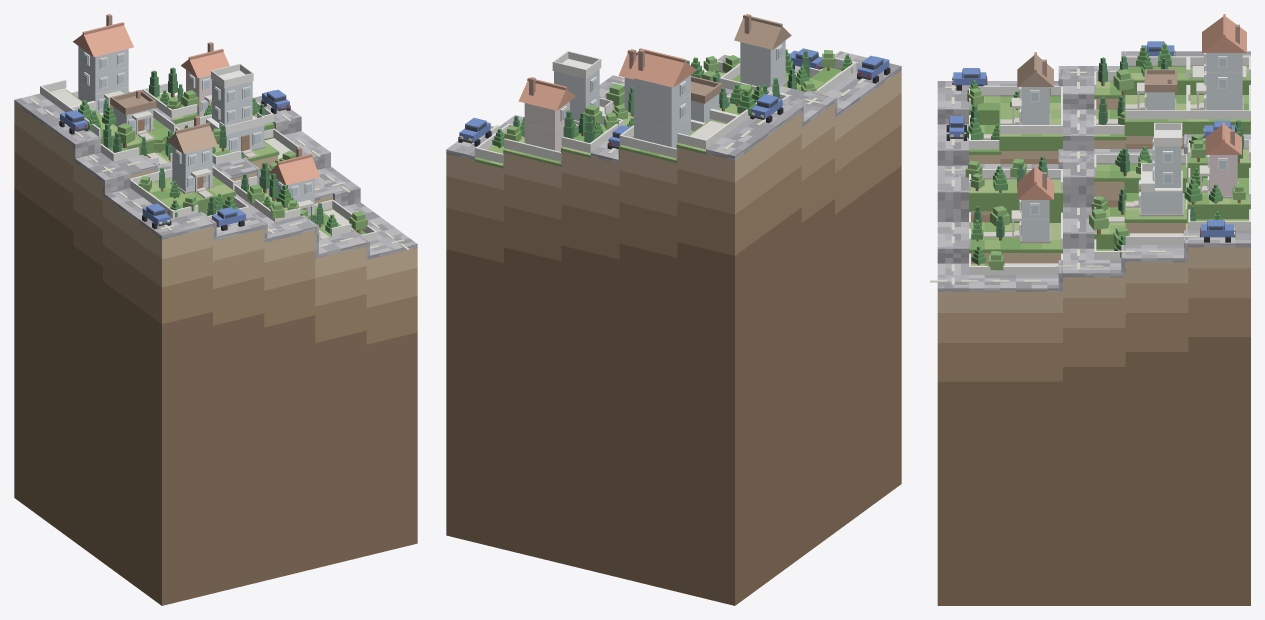
The model's file is block_4_permeable_40.glb.
The picture shows the model from 3 angles, left to right: view 1: azimuth 30°, elevation 25°; view 2: azimuth 150°, elevation 25°; view 3: azimuth 270°, elevation 25°; orthographic projection. The views are drawn at different scales.
Parts seen in each view (by area): view 1: Patch_UpperLeft_b03_PP, Bungalows_UpperLeft_b03_PP, Roads_UpperLeft_b03_PP, LawnSkirt_UpperLeft_b03_PP, RoadMarks_UpperLeft_b03_PP, ULCar_003_PP; view 2: Patch_UpperLeft_b03_PP, Bungalows_UpperLeft_b03_PP, Roads_UpperLeft_b03_PP, ULCar_014_PP, ULCar_010_PP, ULCar_015_PP; view 3: Patch_UpperLeft_b03_PP, Bungalows_UpperLeft_b03_PP, Roads_UpperLeft_b03_PP, LawnSkirt_UpperLeft_b03_PP, RoadMarks_UpperLeft_b03_PP, ULCar_010_PP, ULCar_015_PP, ULCar_003_PP.
Boxes of the visible parts, x1=… form: Patch_UpperLeft_b03_PP: x1=14, y1=104, x2=417, y2=605; Bungalows_UpperLeft_b03_PP: x1=40, y1=14, x2=377, y2=241; Roads_UpperLeft_b03_PP: x1=14, y1=93, x2=417, y2=259; LawnSkirt_UpperLeft_b03_PP: x1=66, y1=89, x2=340, y2=225; RoadMarks_UpperLeft_b03_PP: x1=29, y1=98, x2=409, y2=249; ULCar_003_PP: x1=211, y1=207, x2=246, y2=230; Patch_UpperLeft_b03_PP: x1=446, y1=70, x2=901, y2=605; Bungalows_UpperLeft_b03_PP: x1=475, y1=14, x2=856, y2=168; Roads_UpperLeft_b03_PP: x1=446, y1=51, x2=901, y2=163; ULCar_014_PP: x1=750, y1=94, x2=783, y2=123; ULCar_010_PP: x1=458, y1=118, x2=491, y2=146; ULCar_015_PP: x1=857, y1=55, x2=890, y2=83; Patch_UpperLeft_b03_PP: x1=937, y1=82, x2=1250, y2=605; Bungalows_UpperLeft_b03_PP: x1=969, y1=14, x2=1250, y2=274; Roads_UpperLeft_b03_PP: x1=937, y1=51, x2=1250, y2=291; LawnSkirt_UpperLeft_b03_PP: x1=969, y1=79, x2=1250, y2=252; RoadMarks_UpperLeft_b03_PP: x1=930, y1=68, x2=1197, y2=284; ULCar_010_PP: x1=1200, y1=220, x2=1235, y2=242; ULCar_015_PP: x1=952, y1=68, x2=987, y2=90; ULCar_003_PP: x1=946, y1=116, x2=966, y2=140.
Bounding box in the file's own units: 9.5 × 16.52 × 9.72.
